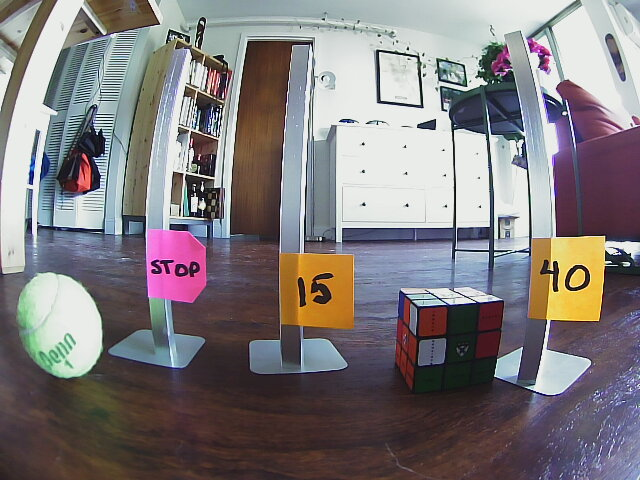15: (282, 256, 353, 324)
40: (536, 240, 602, 317)
ball: (17, 273, 103, 380)
cube: (396, 288, 503, 390)
stop: (147, 230, 201, 297)
